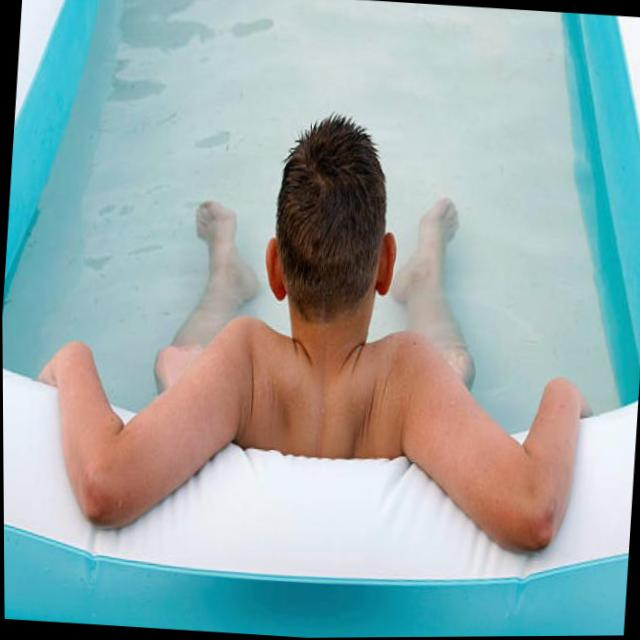no helmet: (229, 111, 415, 364)
